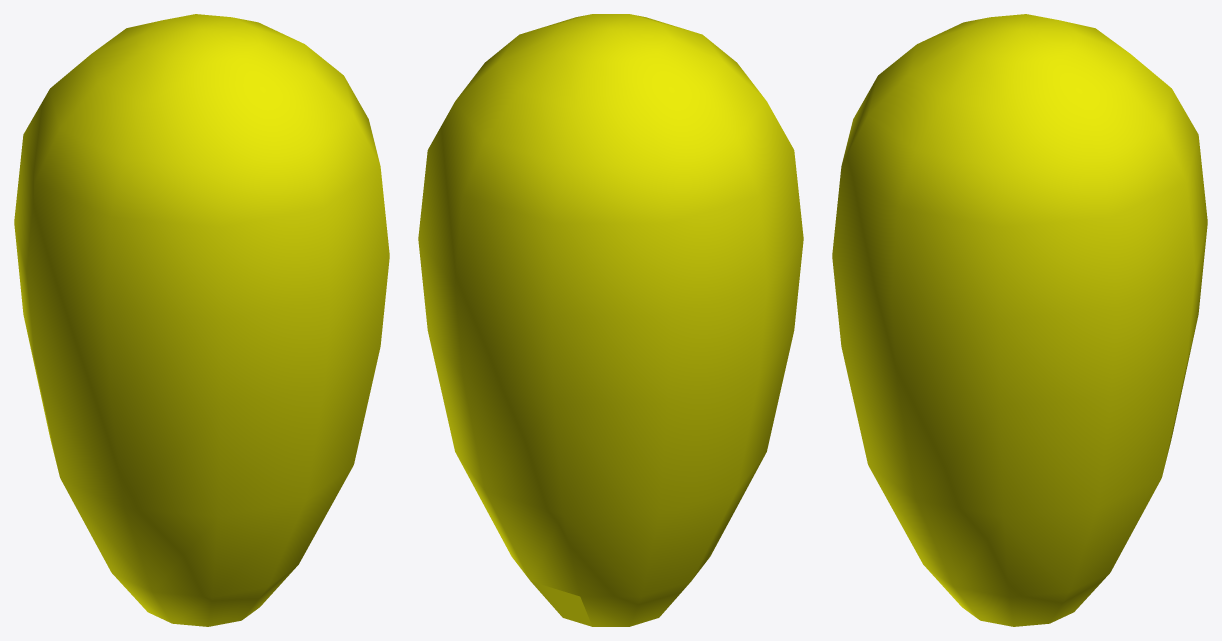
The model's file is Cactus1.glb.
3 renders of one model, left to right at view 1: azimuth 30°, elevation 25°; view 2: azimuth 150°, elevation 25°; view 3: azimuth 270°, elevation 25°, orthographic.
Parts seen in each view (by area): view 1: polySurface211; view 2: polySurface211; view 3: polySurface211.
Boxes of the visible parts, x1,y1,x2,y2 form: polySurface211: (14,14,389,626); polySurface211: (418,14,803,626); polySurface211: (832,14,1207,626).
Size of the model in its own units: 0.508 by 0.8512 by 0.4996.
Materials: 1 (1 with a texture image).
